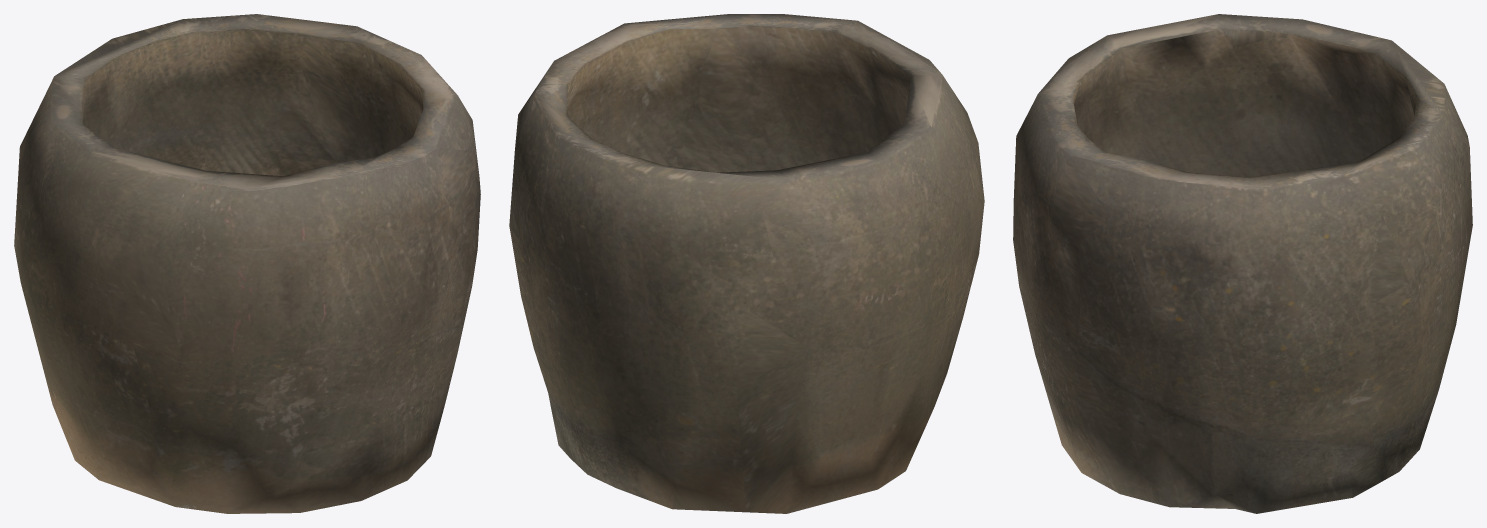
The model's file is statue 5.glb.
3 views of the same model, side by side, from view 1: azimuth 30°, elevation 25°; view 2: azimuth 150°, elevation 25°; view 3: azimuth 270°, elevation 25° (orthographic).
Visible parts, largest first — view 1: Stone Trough; view 2: Stone Trough; view 3: Stone Trough.
Part boxes in pixels (left/top/right/bottom): Stone Trough: left=14, top=14, right=480, bottom=513; Stone Trough: left=509, top=14, right=984, bottom=513; Stone Trough: left=1013, top=14, right=1472, bottom=513.
Bounding box in the file's own units: 1.95 × 1.57 × 1.93.
1 material, 1 textured.
